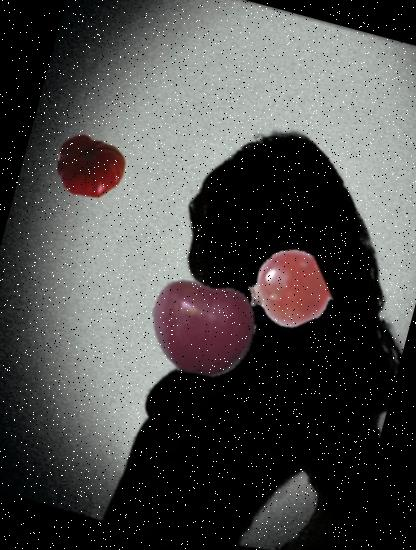Cherry: (138, 264, 267, 394)
Redcurrant: (240, 242, 336, 339)
Tomato: (49, 125, 135, 210)
